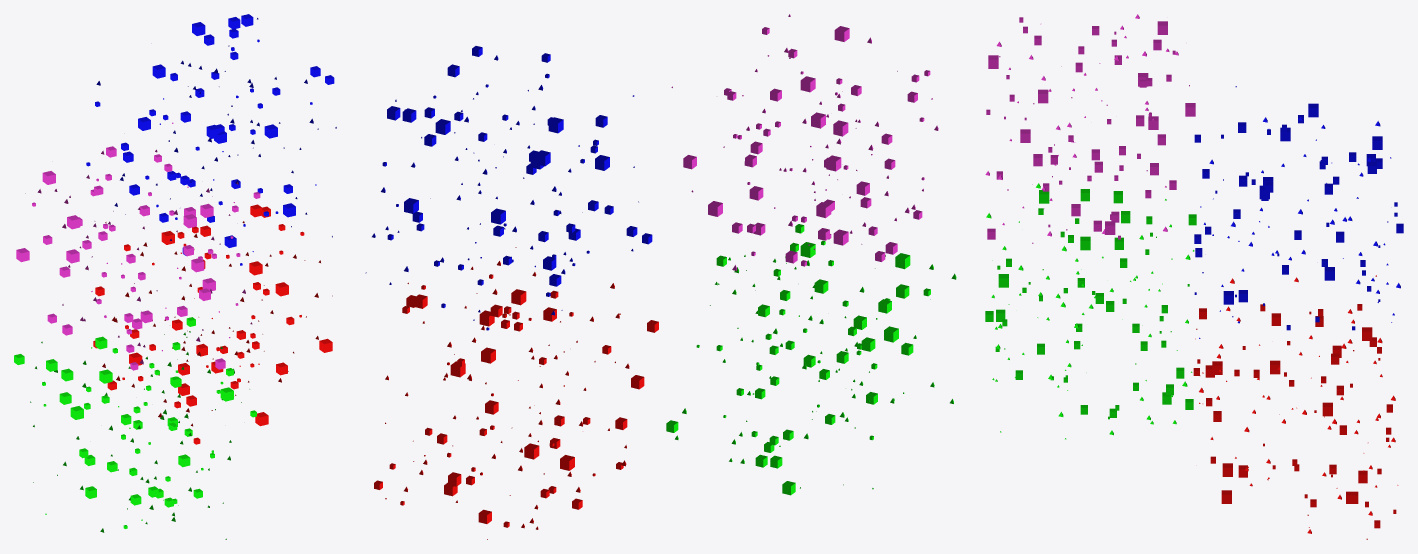
3 renders of one model, left to right at view 1: azimuth 30°, elevation 25°; view 2: azimuth 150°, elevation 25°; view 3: azimuth 270°, elevation 25°, orthographic. The views are drawn at different scales.
Visible parts, largest first — view 1: Cube, Pyramid; view 2: Cube, Pyramid; view 3: Cube, Pyramid.
Part boxes in pixels (bbox=[...]): Cube: bbox=[14, 14, 334, 528]; Pyramid: bbox=[25, 18, 336, 539]; Cube: bbox=[374, 26, 932, 527]; Pyramid: bbox=[365, 14, 956, 539]; Cube: bbox=[985, 17, 1403, 539]; Pyramid: bbox=[985, 14, 1400, 533].
Size of the model in its own units: 403 by 407 by 406.
